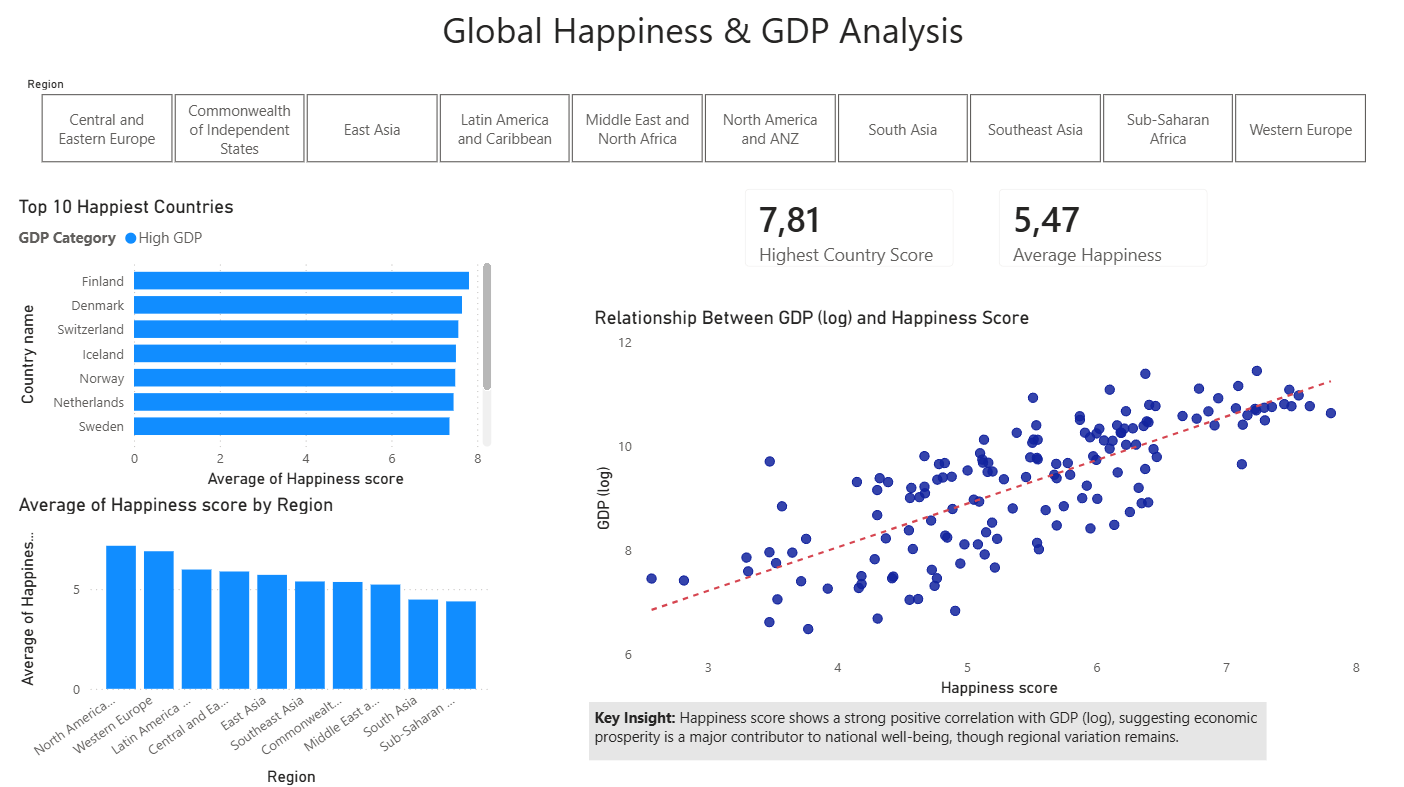

This screenshot's page, from the dashboard's own definition file:
{"tool":"powerbi","page":{"name":"Page 1","canvas":[1280,720],"ordinal":0},"visuals":[{"type":"cardVisual","fields":{"Data":["happiness.Average Happiness"]},"box":[892,155,224,105],"z":0,"group":"g1"},{"type":"barChart","title":"Top 10 Happiest Countries","fields":{"Category":["happiness.Country name"],"Y":["Avg(happiness.Happiness score)"],"Series":["happiness.GDP Category"]},"box":[13,178,440,271],"z":0},{"type":"cardVisual","fields":{"Data":["happiness.Highest Country Score"]},"box":[661,155,224,105],"z":1000,"group":"g1"},{"type":"scatterChart","title":"Relationship Between GDP (log) and Happiness Score","fields":{"X":["happiness.Happiness score"],"Y":["happiness.GDP (log)"]},"box":[536,279,706,360],"z":1000},{"type":"clusteredColumnChart","fields":{"Category":["happiness.Region"],"Y":["Avg(happiness.Happiness score)"]},"box":[13,449,440,271],"z":2000},{"type":"slicer","fields":{"Values":["happiness.Region"]},"box":[13,65,1254,90],"z":3000},{"type":"textbox","box":[0,0,1280,75],"z":4000},{"type":"group","id":"g1","title":"Group 1","box":[661,155,455,105],"z":5000},{"type":"textbox","box":[536,639,616,53],"z":6000}]}

Visuals, with their boxes in screenshot pixels (x1, y1, x2, y2), scaled from the page's 1280x720 canvas onto the 1404x787 screenshot:
cardVisual - happiness.Average Happiness: <bbox>978, 169, 1224, 284</bbox>
"Top 10 Happiest Countries" barChart: <bbox>14, 195, 497, 491</bbox>
cardVisual - happiness.Highest Country Score: <bbox>725, 169, 971, 284</bbox>
"Relationship Between GDP (log) and Happiness Score" scatterChart: <bbox>588, 305, 1362, 698</bbox>
clusteredColumnChart - happiness.Region x Avg(happiness.Happiness score): <bbox>14, 491, 497, 786</bbox>
slicer - happiness.Region: <bbox>14, 71, 1390, 169</bbox>
textbox: <bbox>0, 0, 1403, 82</bbox>
"Group 1" group: <bbox>725, 169, 1224, 284</bbox>
textbox: <bbox>588, 698, 1264, 756</bbox>
